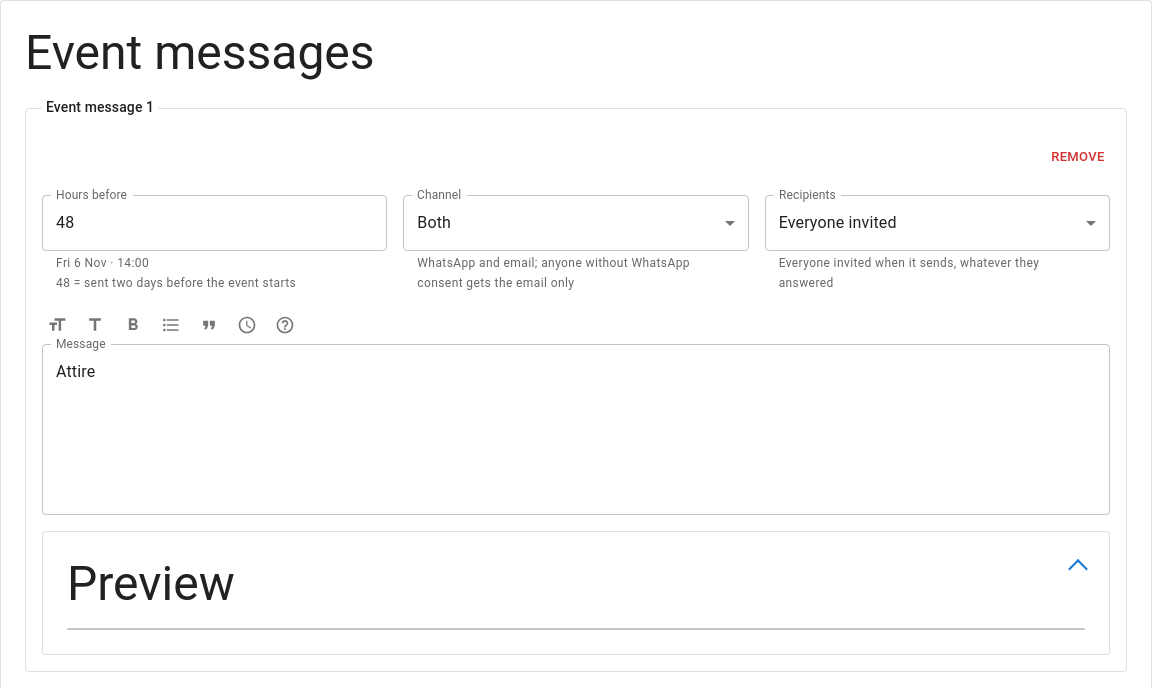
Test: the Event messages section › opens the formatting guide on click and on the keyboard, lists all six, and closes on Escape
This screenshot has width=1152, height=688.
Click the button named "Formatting guide": (285,325) [270,310,300,340]
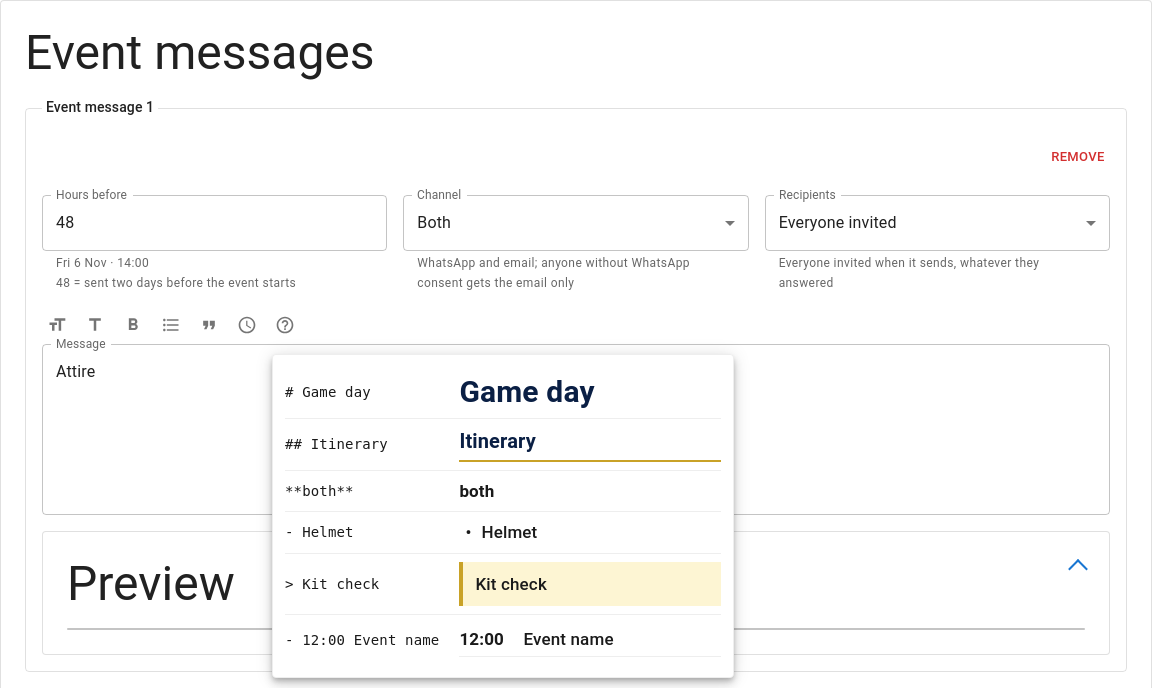
Result: the element with test id "brief-format-guide-card" is shown at [273,355,733,677]
Result: the number of rows with test id "brief-format-guide-row" is 6 at [285,367,721,418]; [285,418,721,470]; [285,470,721,512]; [285,512,721,553]; [285,553,721,615]; [285,615,721,665]
Result: the text "# Game day" is shown at [285,367,459,418]
Press Escape in the button named "Formatting guide", box [270,310,300,340]
Result: the element with test id "brief-format-guide-card" is shown at [273,355,733,677]
Press Escape in the button named "Formatting guide", box [270,310,300,340]
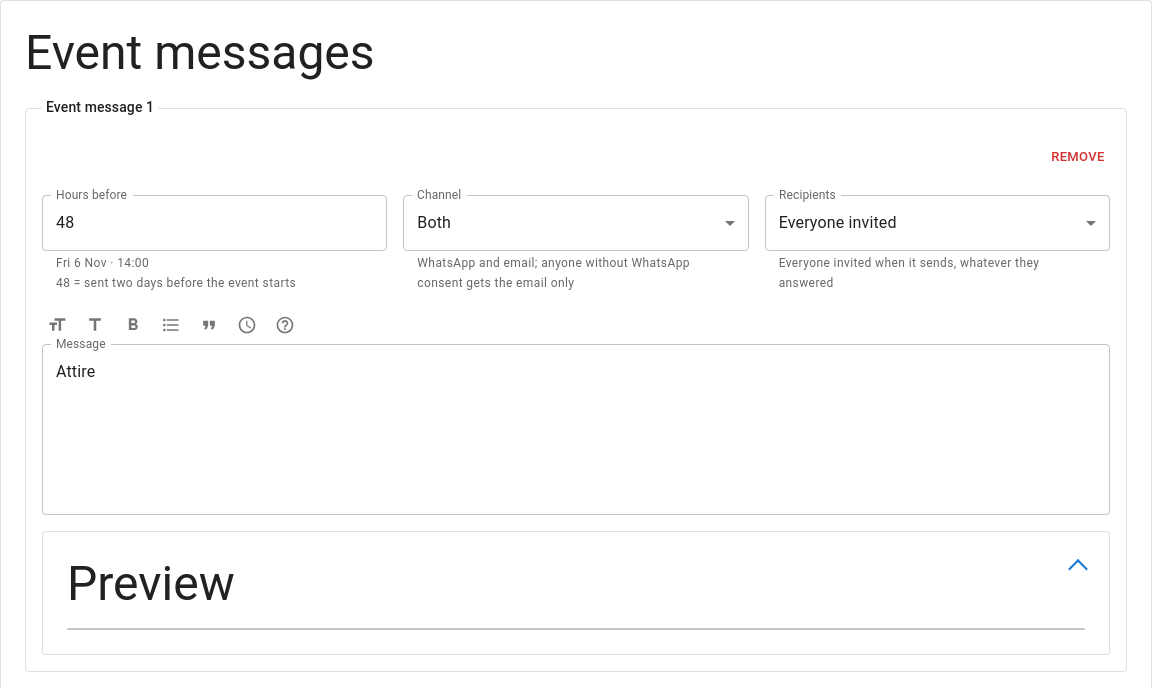
Result: the element with test id "brief-format-guide-card" is gone
